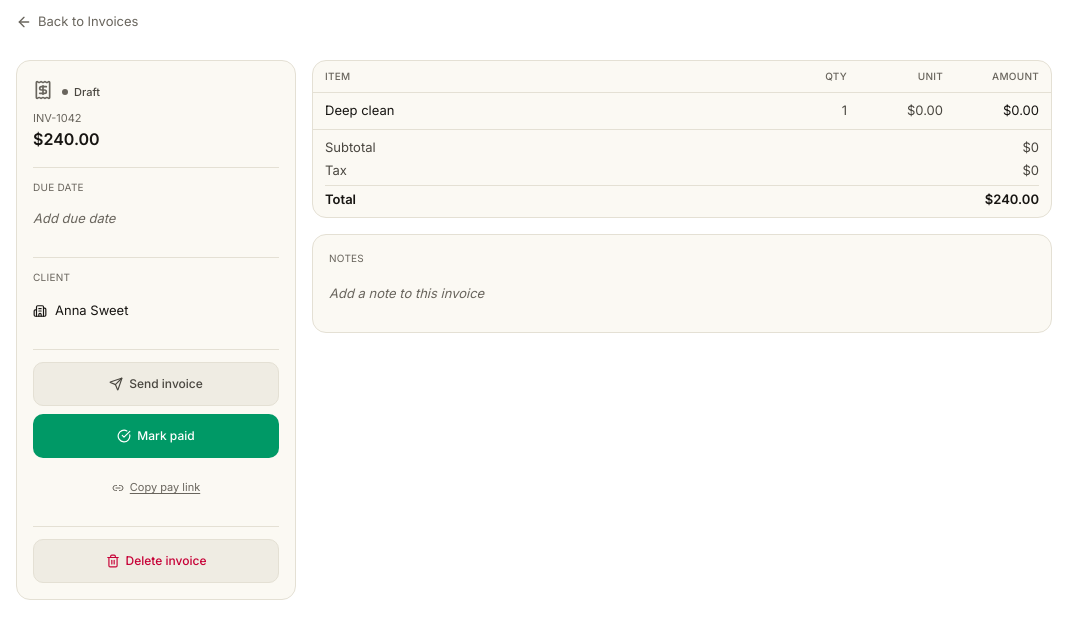
Test: InvoiceDetail › copies a pay link for a draft the customer has never been sent
The image size is (1069, 617).
Click the button "Copy pay link".
click(156, 488)  # box [33,466,279,510]
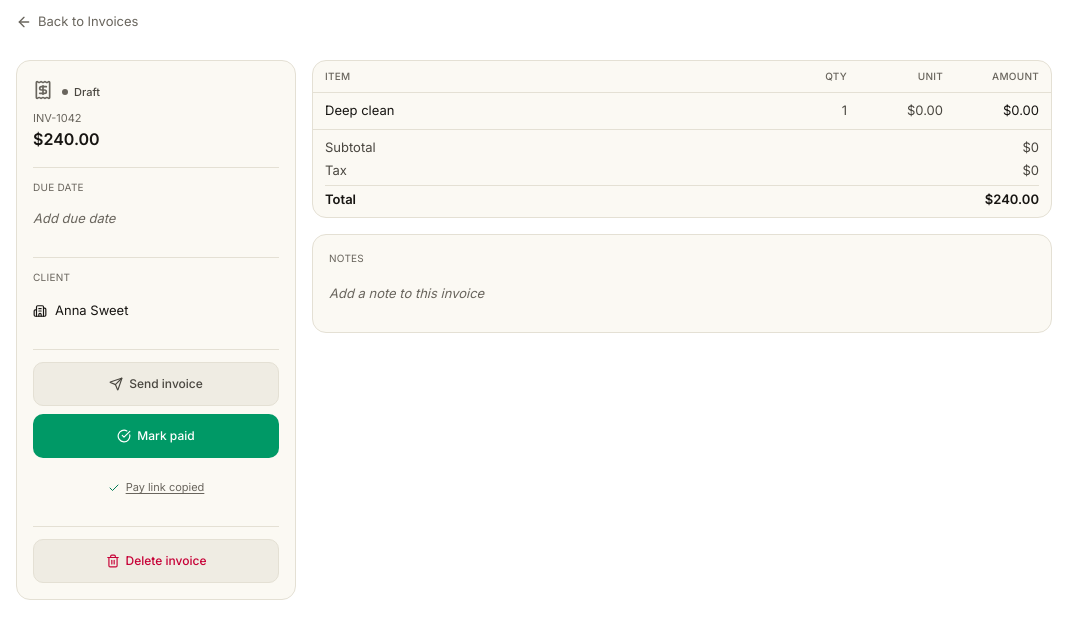
Expected: the button "Pay link copied" is shown, [33,466,279,510]
